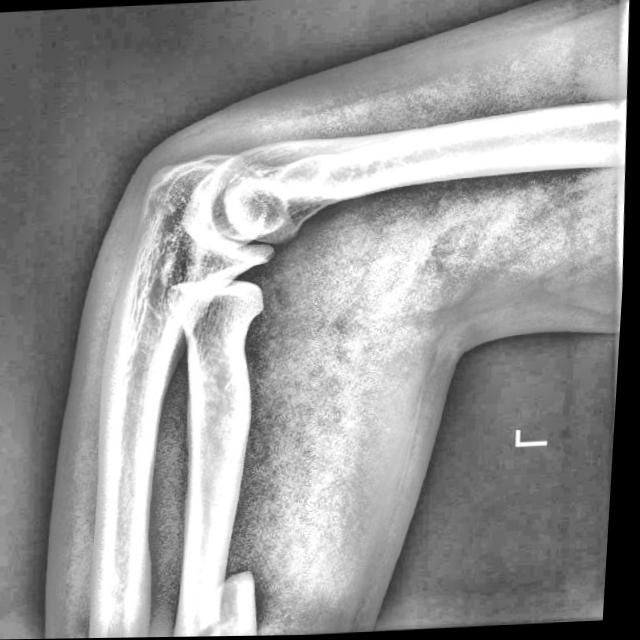fracture: (174, 561, 281, 638)
